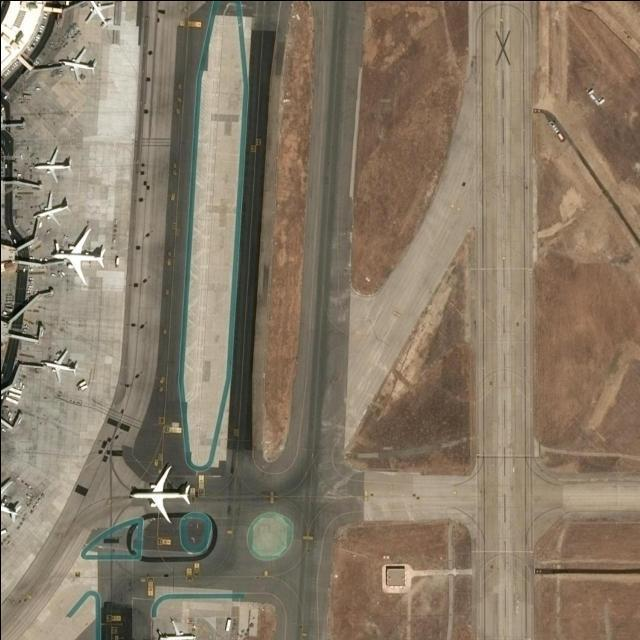Aircraft: (127, 463, 189, 523), (46, 229, 105, 283), (30, 145, 74, 181), (29, 191, 69, 225), (59, 44, 96, 78), (0, 479, 23, 529), (40, 347, 74, 377), (82, 0, 114, 29)
